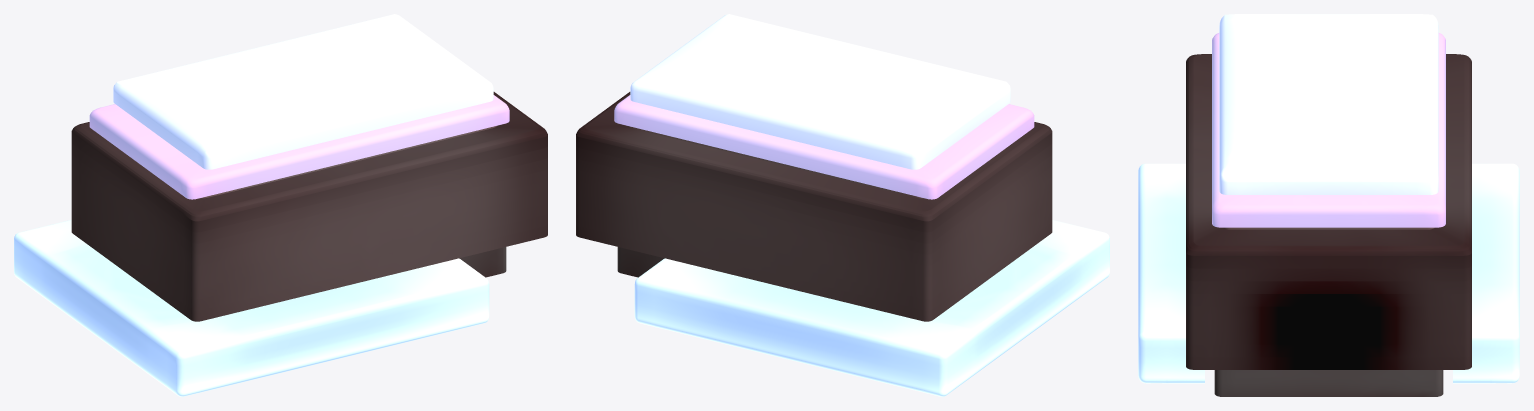
Rendered from MainHubBlockout1.fbx.
3 renders of one model, left to right at view 1: azimuth 30°, elevation 25°; view 2: azimuth 150°, elevation 25°; view 3: azimuth 270°, elevation 25°, orthographic. The views are drawn at different scales.
Parts seen in each view (by area): view 1: Cube.008; view 2: Cube.008; view 3: Cube.008.
Boxes of the visible parts, x1,y1,x2,y2 form: Cube.008: (14, 14, 547, 396); Cube.008: (576, 14, 1109, 396); Cube.008: (1138, 14, 1519, 396).
Bounding box in the file's own units: 5400 × 2795 × 4000.
